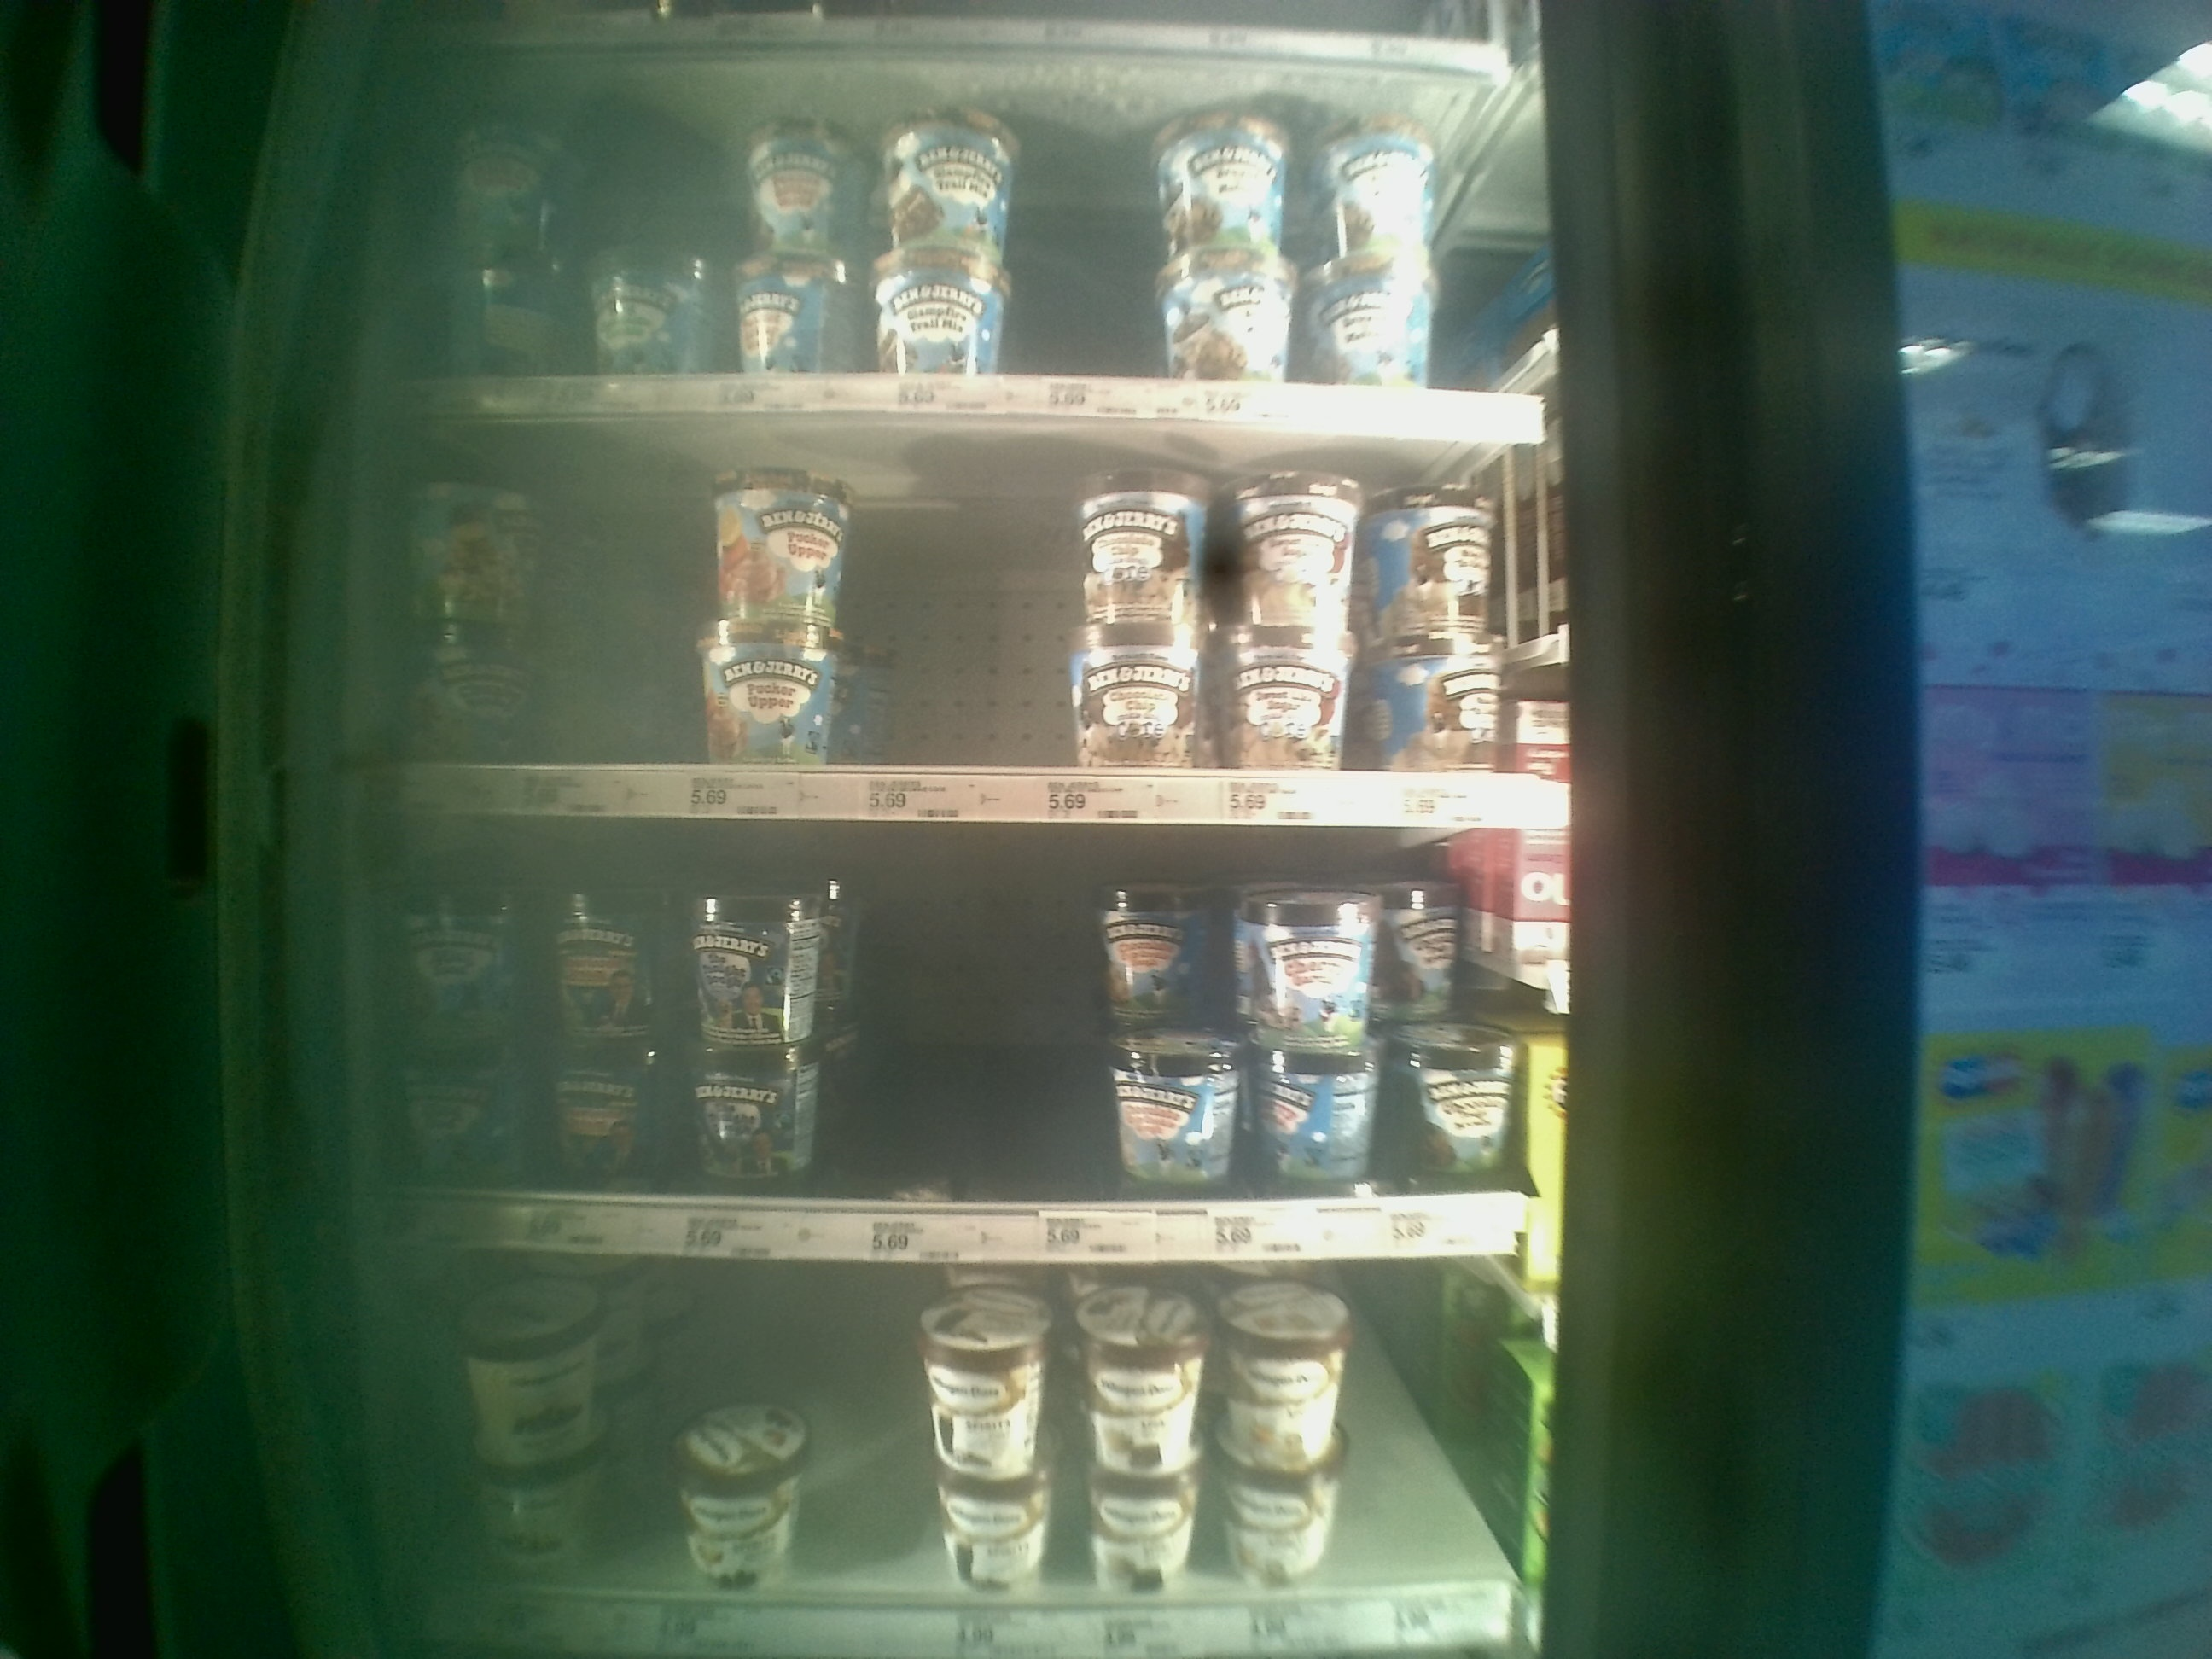shelf: (387, 817, 1559, 1265), (395, 420, 1571, 823), (388, 26, 1571, 425), (387, 1260, 1545, 1647)
